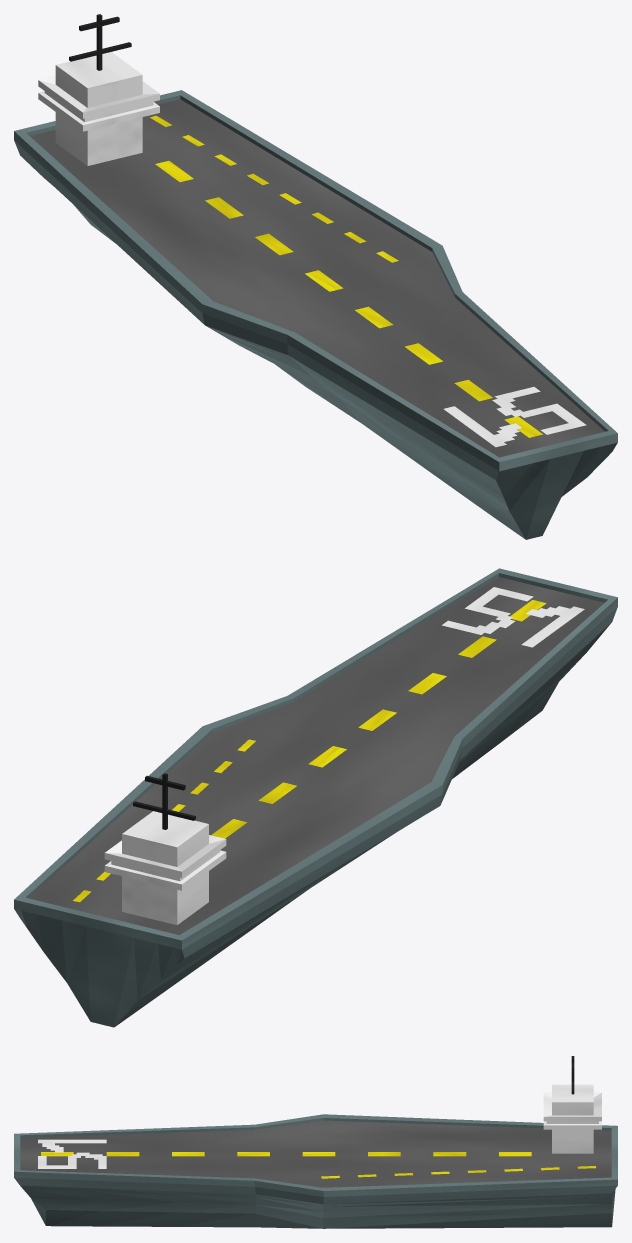
The model's file is cimpletoon.f32c67875649.carrier.glb.
3 renders of one model, top to bottom at view 1: azimuth 30°, elevation 25°; view 2: azimuth 150°, elevation 25°; view 3: azimuth 270°, elevation 25°, orthographic. The views are drawn at different scales.
Visible parts, largest first — view 1: carrier.glb; view 2: carrier.glb; view 3: carrier.glb.
Boxes of the visible parts, box(x1,y1,x2,y2) form: carrier.glb: box(14, 14, 617, 539); carrier.glb: box(14, 568, 617, 1027); carrier.glb: box(14, 1056, 617, 1228).
Size of the model in its own units: 1.31 by 1.23 by 4.34.
1 material, 1 textured.
